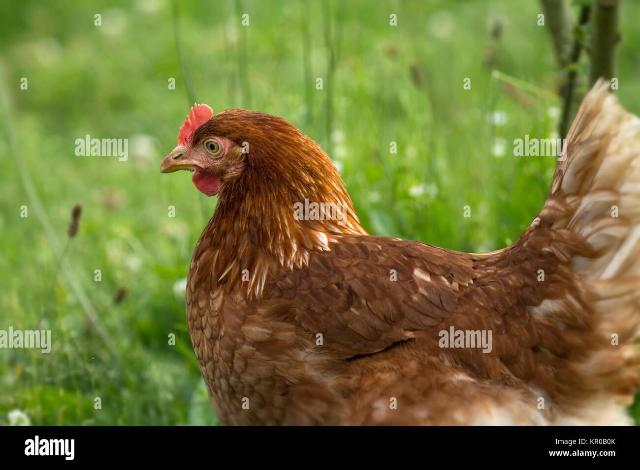Chicken: (160, 78, 640, 426)
